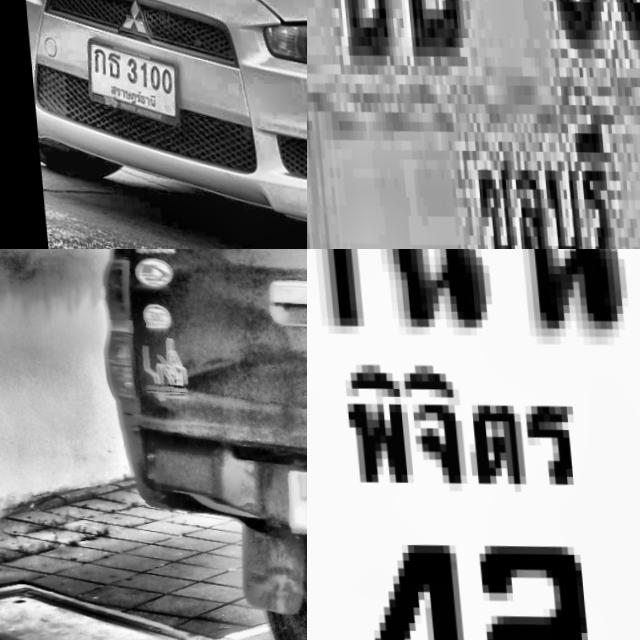license-plate: (307, 249, 640, 640), (307, 0, 640, 249), (73, 32, 178, 127), (275, 455, 307, 545)
